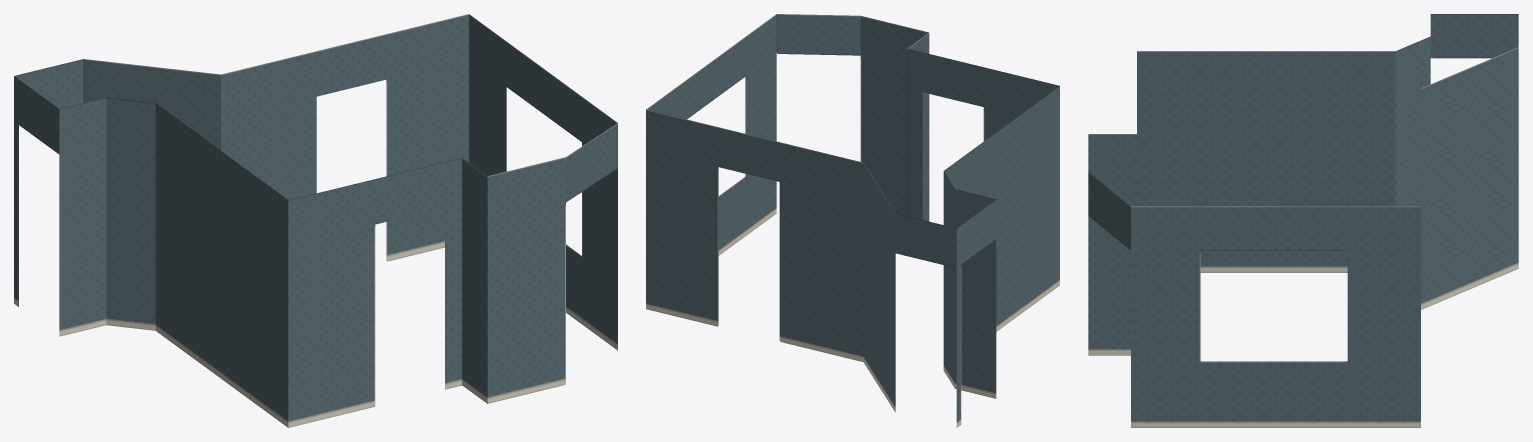
File: kitchen.fbx
3 renders of one model, left to right at view 1: azimuth 30°, elevation 25°; view 2: azimuth 150°, elevation 25°; view 3: azimuth 270°, elevation 25°, orthographic. The views are drawn at different scales.
Visible parts, largest first — view 1: 3rd_floor_left_kitchen; view 2: 3rd_floor_left_kitchen; view 3: 3rd_floor_left_kitchen.
Part boxes in pixels (x1,y1,x2,y2): 3rd_floor_left_kitchen: [14, 14, 617, 427]; 3rd_floor_left_kitchen: [646, 14, 1059, 427]; 3rd_floor_left_kitchen: [1088, 14, 1518, 427].
Bounding box in the file's own units: 465 × 250 × 440.
Materials: 1 (1 with a texture image).
